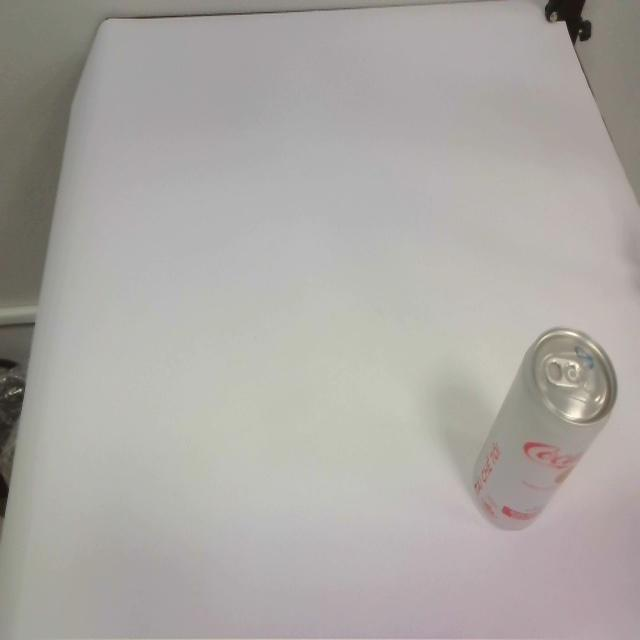debris: (470, 326, 619, 533)
